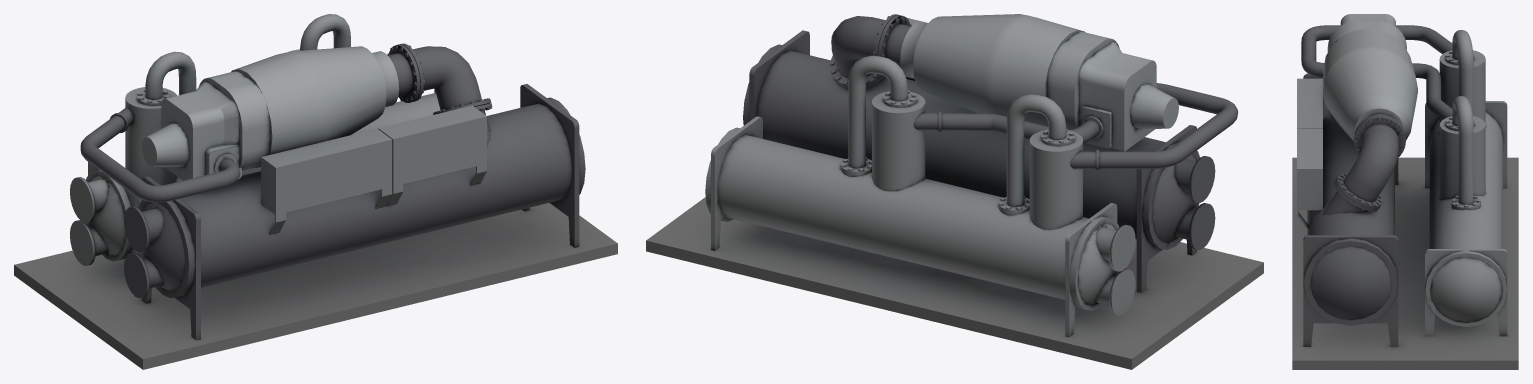
File: Chiller.fbx
3 views of the same model, side by side, from view 1: azimuth 30°, elevation 25°; view 2: azimuth 150°, elevation 25°; view 3: azimuth 270°, elevation 25° (orthographic). The views are drawn at different scales.
Parts seen in each view (by area): view 1: Chiller; view 2: Chiller; view 3: Chiller.
Part boxes in pixels (x1=…): Chiller: x1=14, y1=14, x2=617, y2=369; Chiller: x1=646, y1=14, x2=1263, y2=369; Chiller: x1=1292, y1=14, x2=1518, y2=369.
Size of the model in its own units: 466 by 219 by 219.
Materials: 1 (1 with a texture image).
